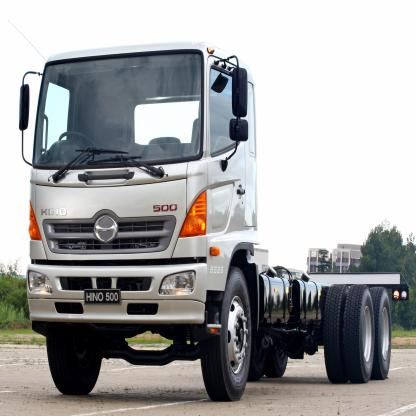dump_truck: (21, 33, 416, 403)
